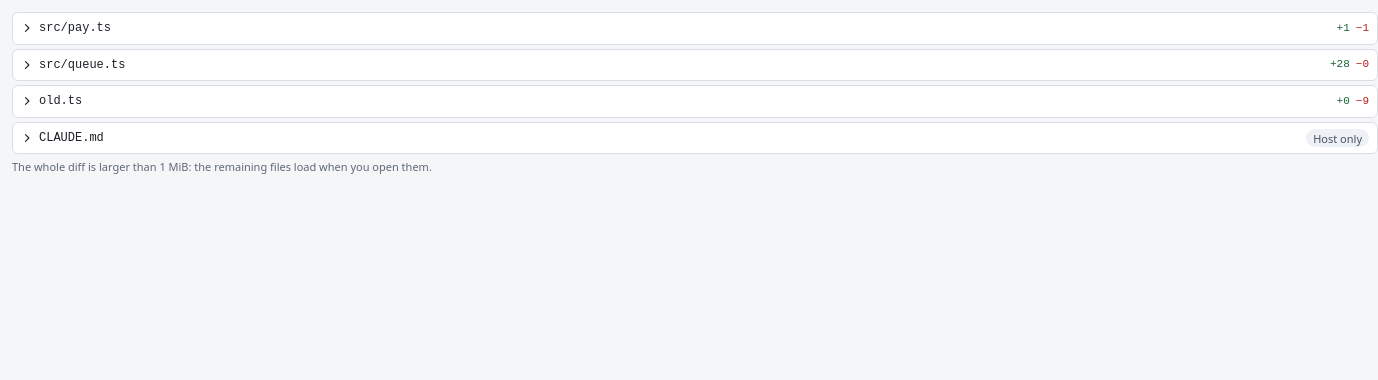
ChangedFiles: the Changes of a result report › a deleted file has no "Open in editor"; a host-only file shows why its diff is withheld and asks for nothing
Click the button "old.ts". click: [61, 101]
box: [15,88,1331,115]
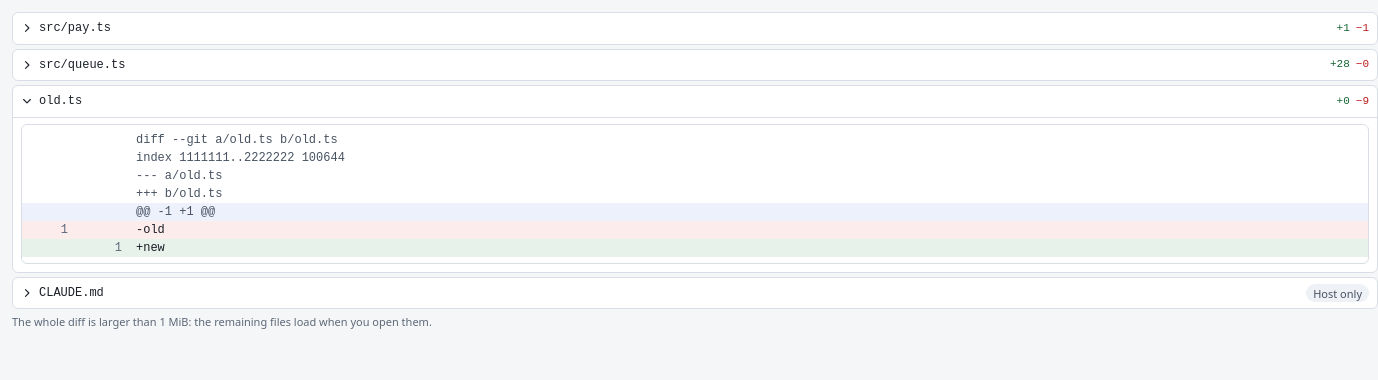
Click the button "CLAUDE.md". click: [71, 293]
box: [15,280,1300,306]
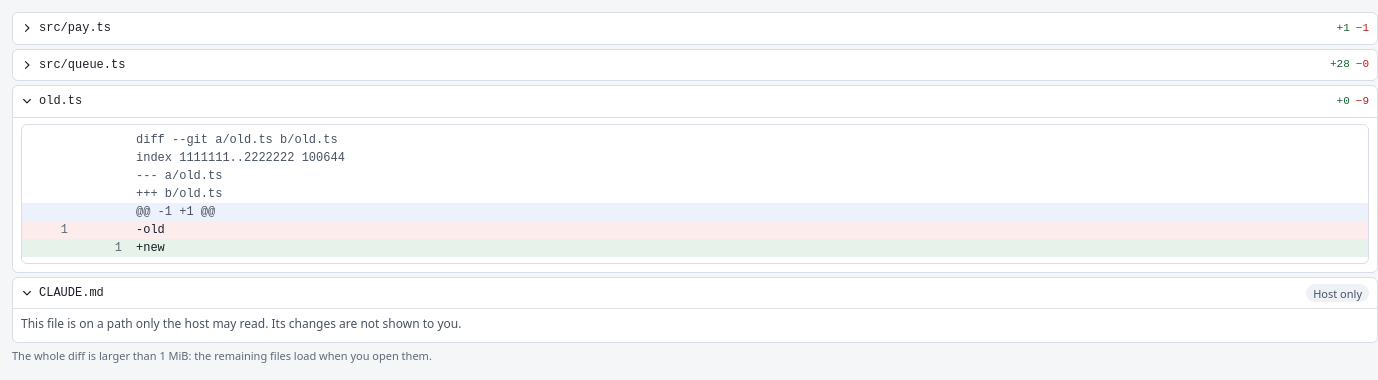
Expected: the text "This file is on a path only the host may read. Its changes are not shown to you." is shown, [21,315,462,332]
